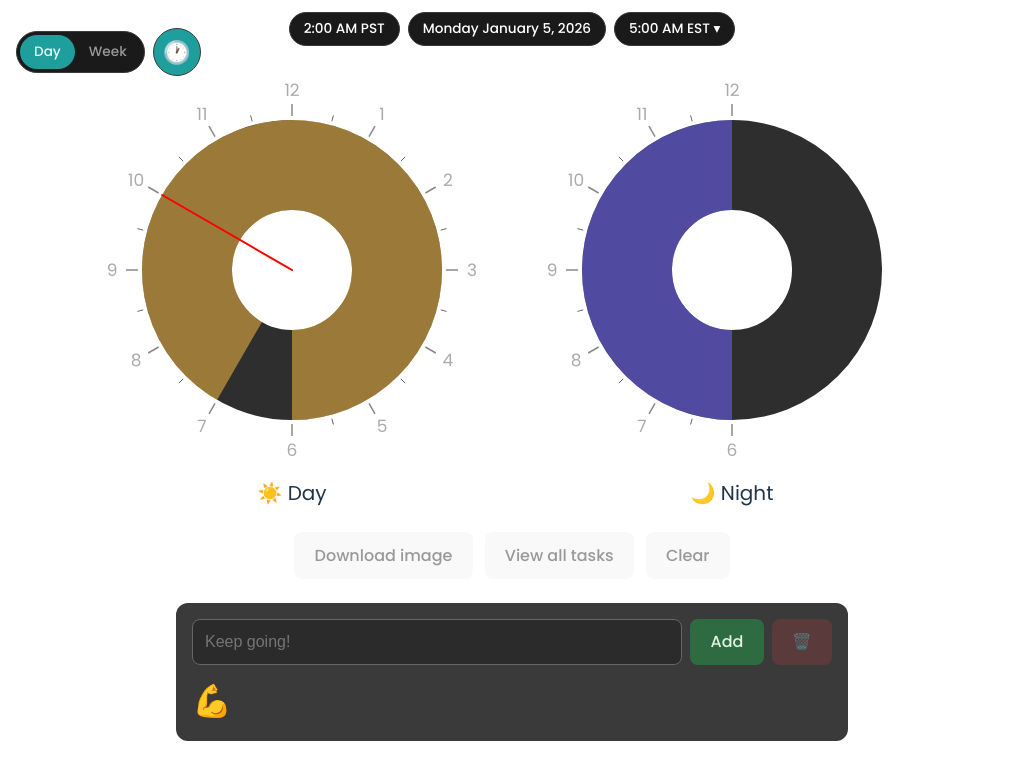
it: DayPlanner › switching to Week mode hides the day-info bubbles and shows the weekday selector instead
The image size is (1024, 765).
Expected: the text "Monday January 5, 2026" is shown, [408,12,606,46]
Click the switch at (80, 52), box [16,31,145,73]
Wait 200 ms
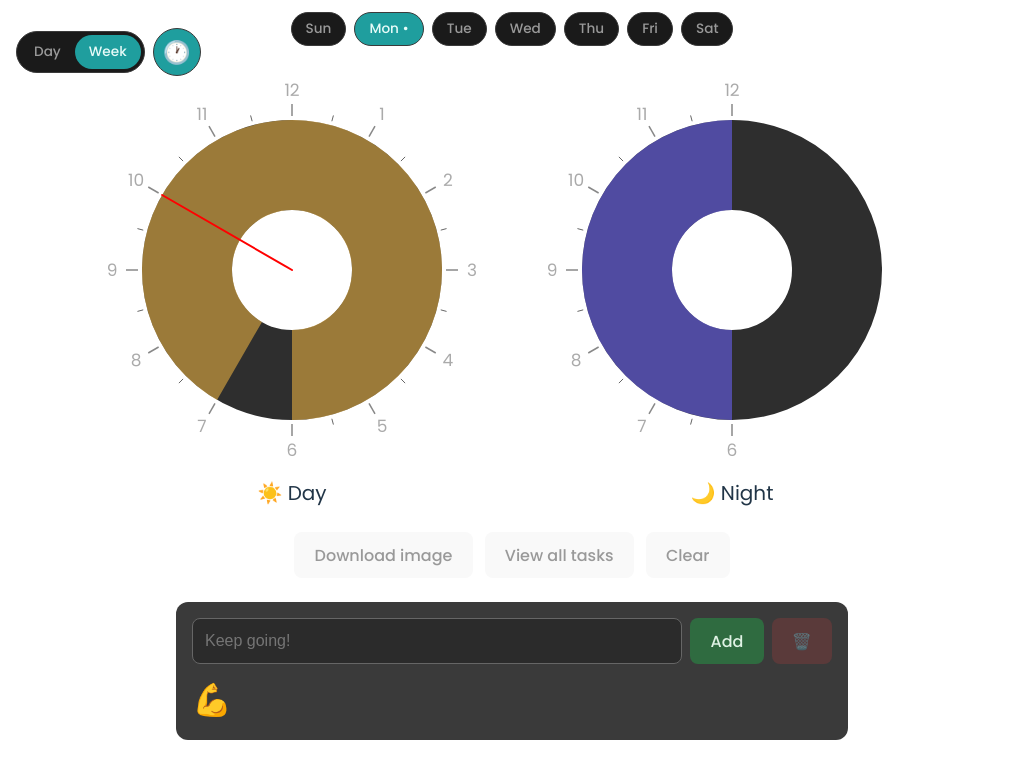
Expected: the text "January 5, 2026" is gone
Expected: the button "Mon •" is shown, [354,12,424,46]
